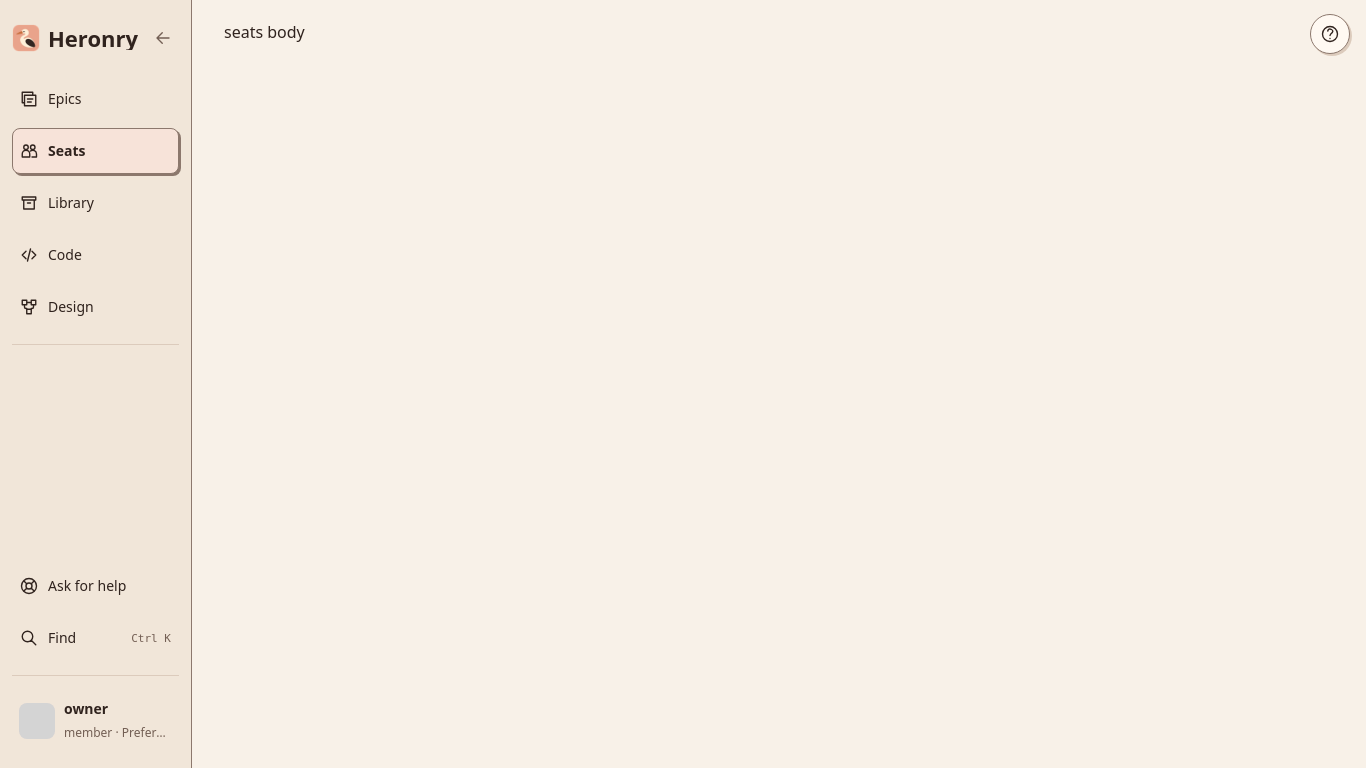
it: What am I looking at? panel › lists ONLY the terms the current page declares
The image size is (1366, 768).
Step 1. Click the button with test id "glossary-open" → (1330,34), box [1310, 14, 1350, 54]
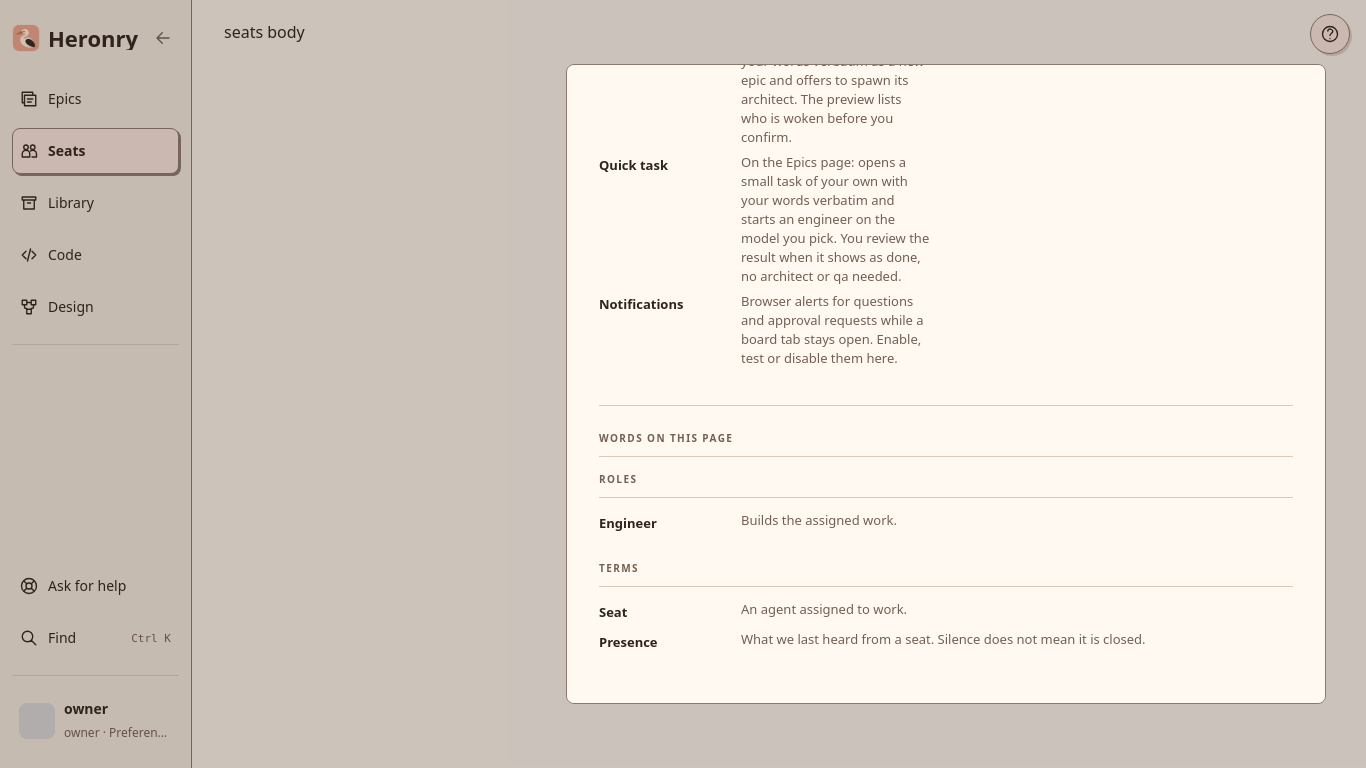
Now the text "Engineer" is shown, box [599, 514, 657, 532]
Now the text "An agent assigned to work." is shown, box [741, 600, 907, 618]
